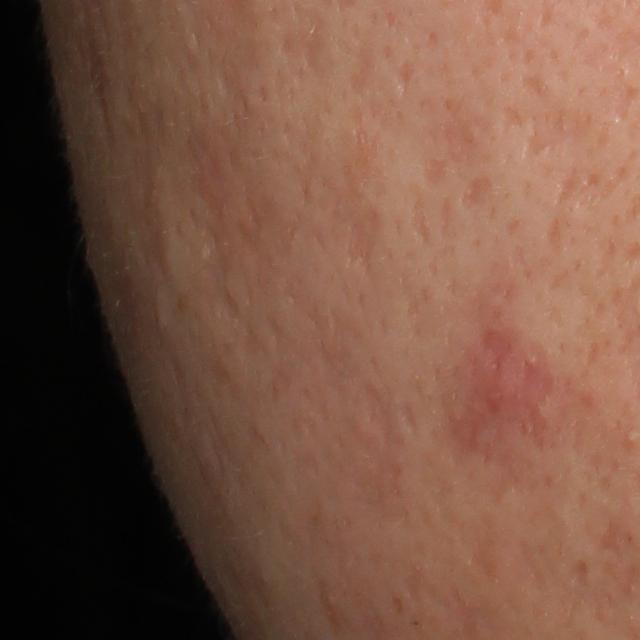atrophic_scar: (329, 133, 389, 284), (520, 105, 615, 162), (404, 190, 437, 251), (345, 42, 377, 101), (555, 163, 587, 210), (459, 174, 496, 213), (418, 155, 454, 188), (542, 213, 569, 257), (569, 553, 593, 591), (396, 57, 417, 92)
